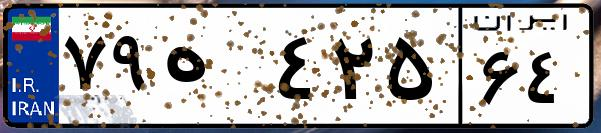2: (330, 28, 385, 110)
4: (270, 28, 330, 110), (525, 38, 570, 115)
5: (385, 28, 445, 110)
6: (475, 38, 525, 113)
7: (57, 26, 110, 100)
9: (110, 28, 158, 98)
ه: (158, 20, 270, 120)
